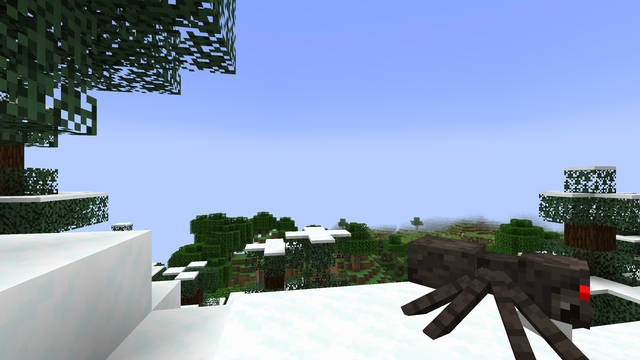araignees: (410, 229, 633, 357)
